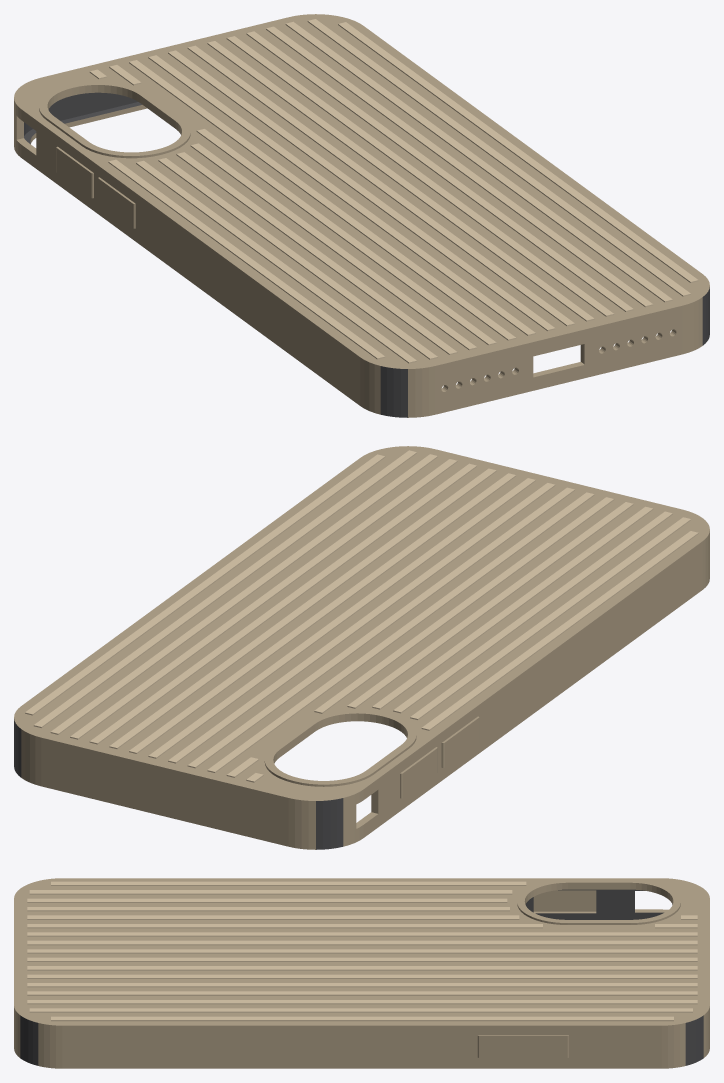
The model's file is kilif-compact-serit-kum.glb.
The picture shows the model from 3 angles, top to bottom: view 1: azimuth 30°, elevation 25°; view 2: azimuth 150°, elevation 25°; view 3: azimuth 270°, elevation 25°; orthographic projection. The views are drawn at different scales.
Parts seen in each view (by area): view 1: Kilif; view 2: Kilif; view 3: Kilif.
Boxes of the visible parts, x1,y1,x2,y2 form: Kilif: (14, 14, 709, 417); Kilif: (14, 446, 709, 849); Kilif: (14, 878, 709, 1068).
Size of the model in its own units: 0.0743 by 0.0105 by 0.1464.
